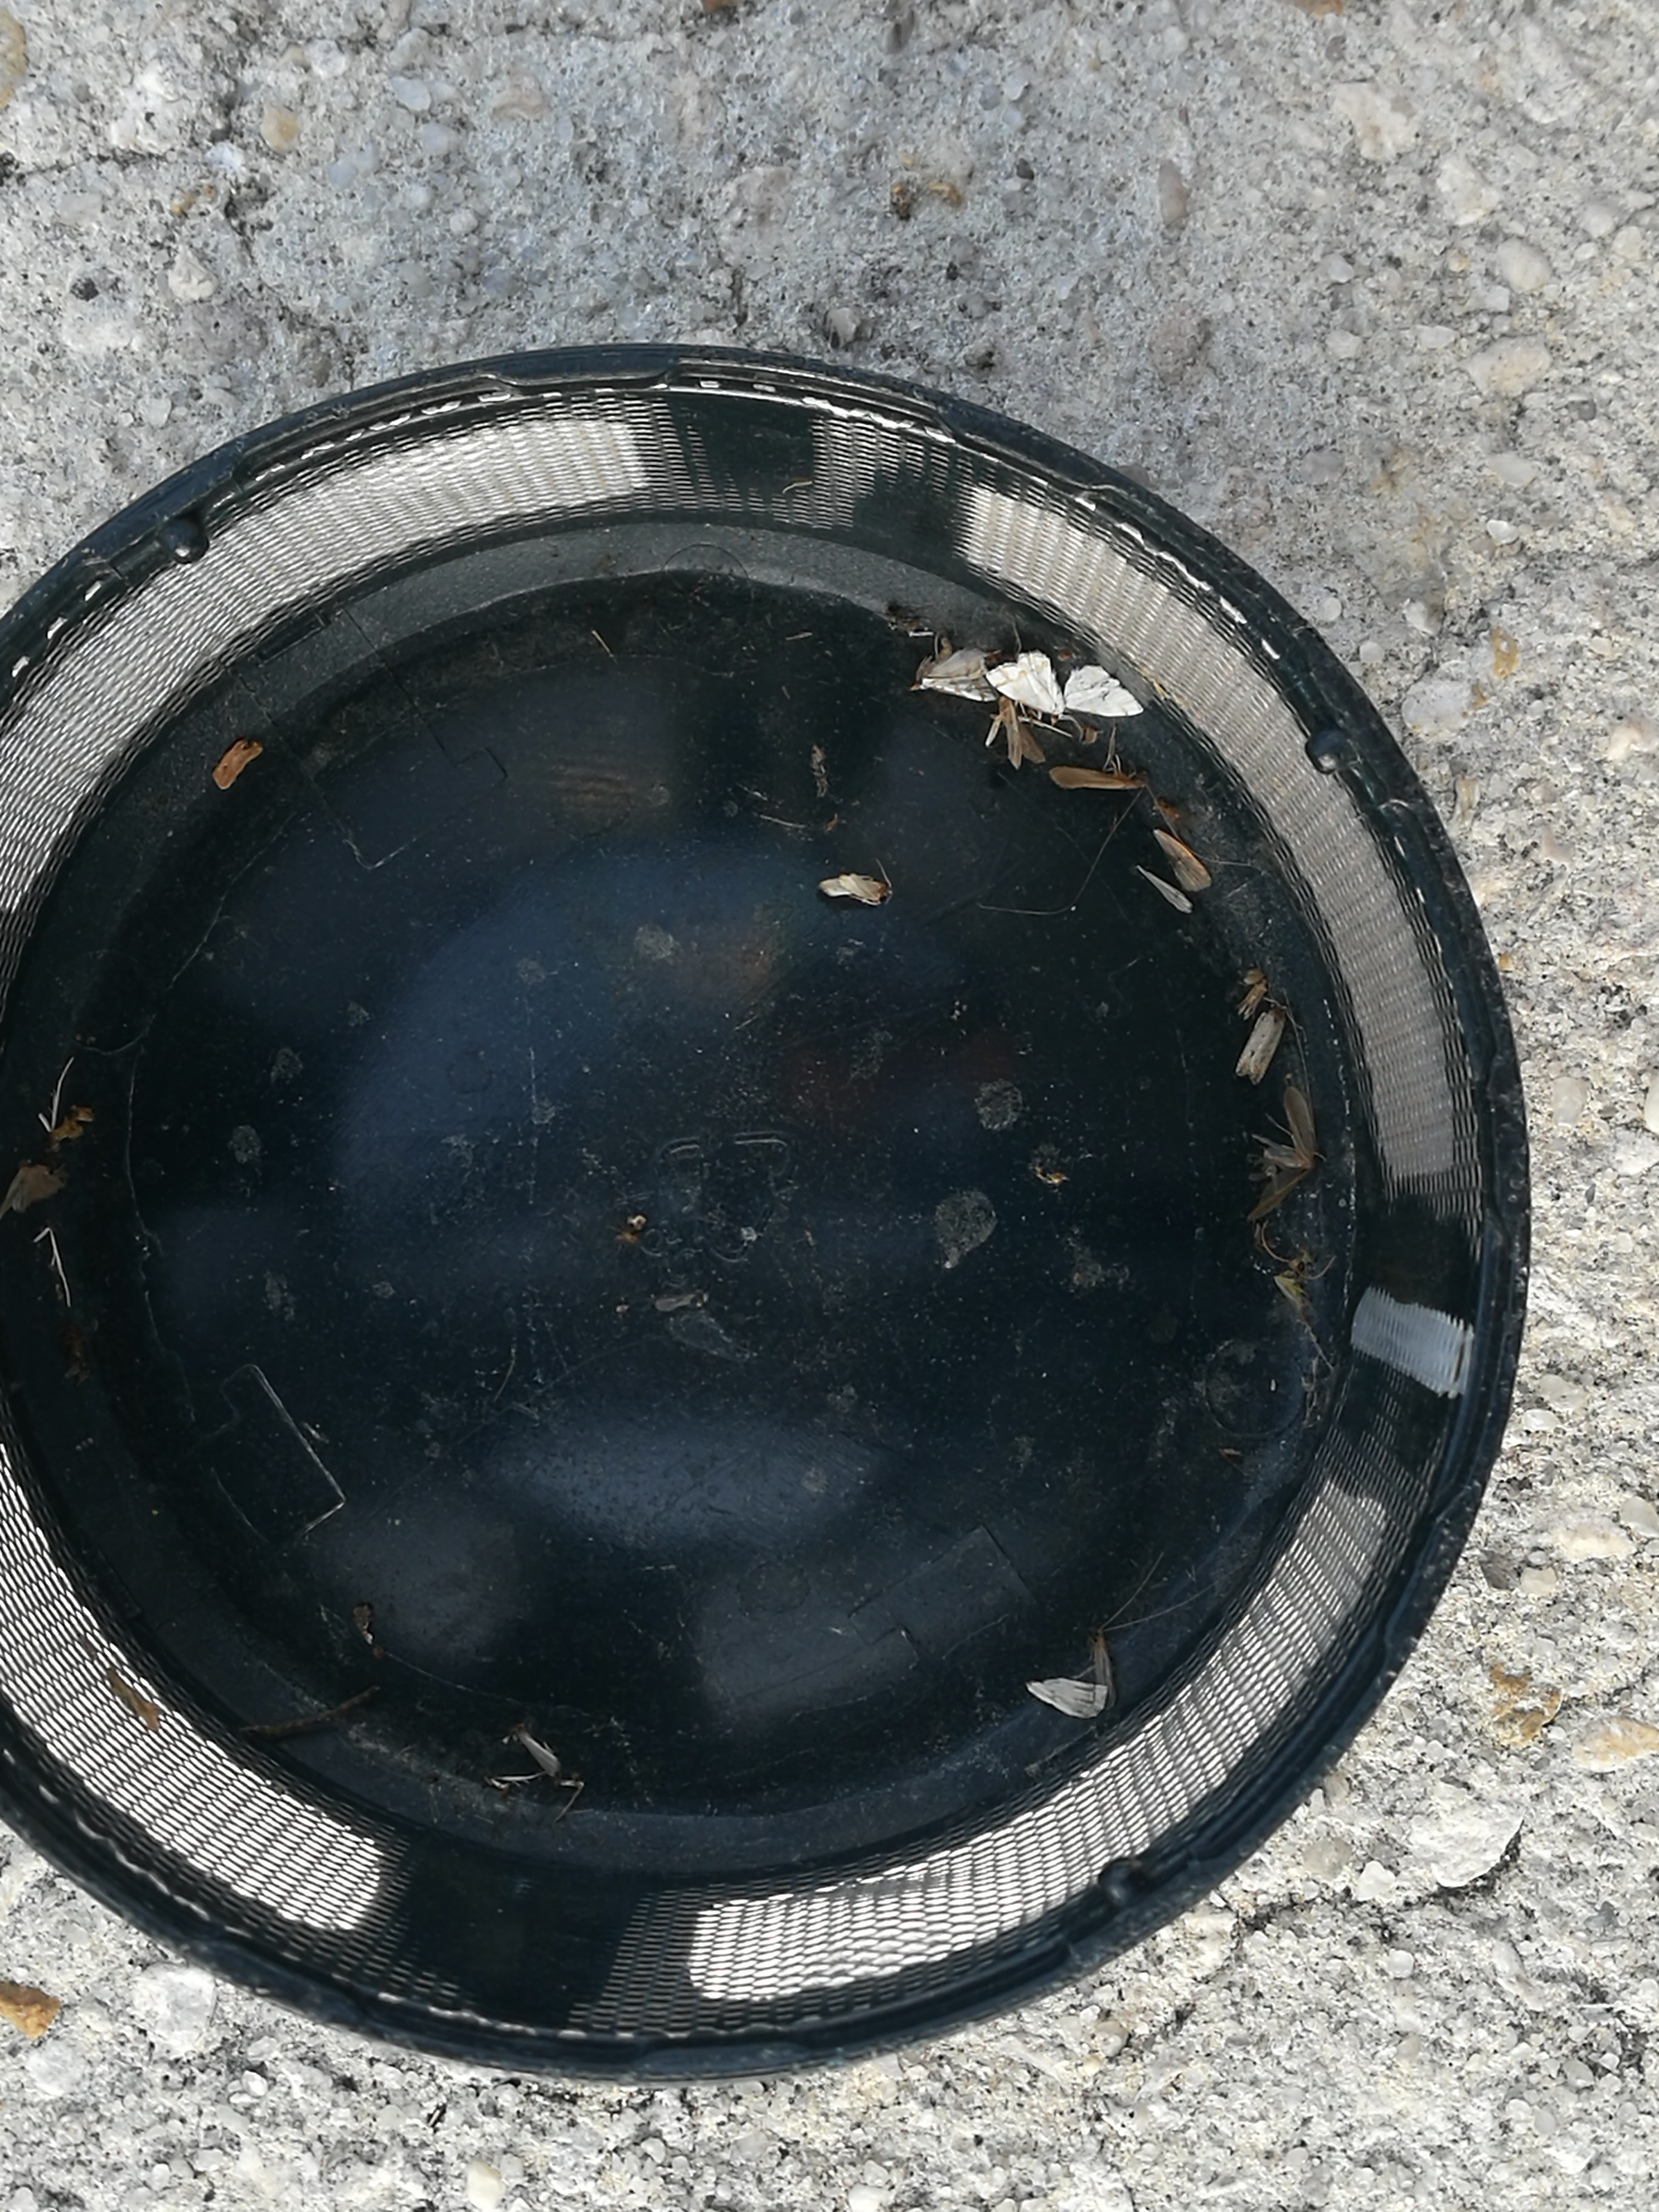mosquito: (1236, 1014, 1284, 1080), (1049, 766, 1148, 791), (1091, 1625, 1117, 1707), (997, 704, 1023, 765)
moth: (985, 655, 1141, 718), (1246, 1090, 1314, 1223), (913, 651, 993, 704)
